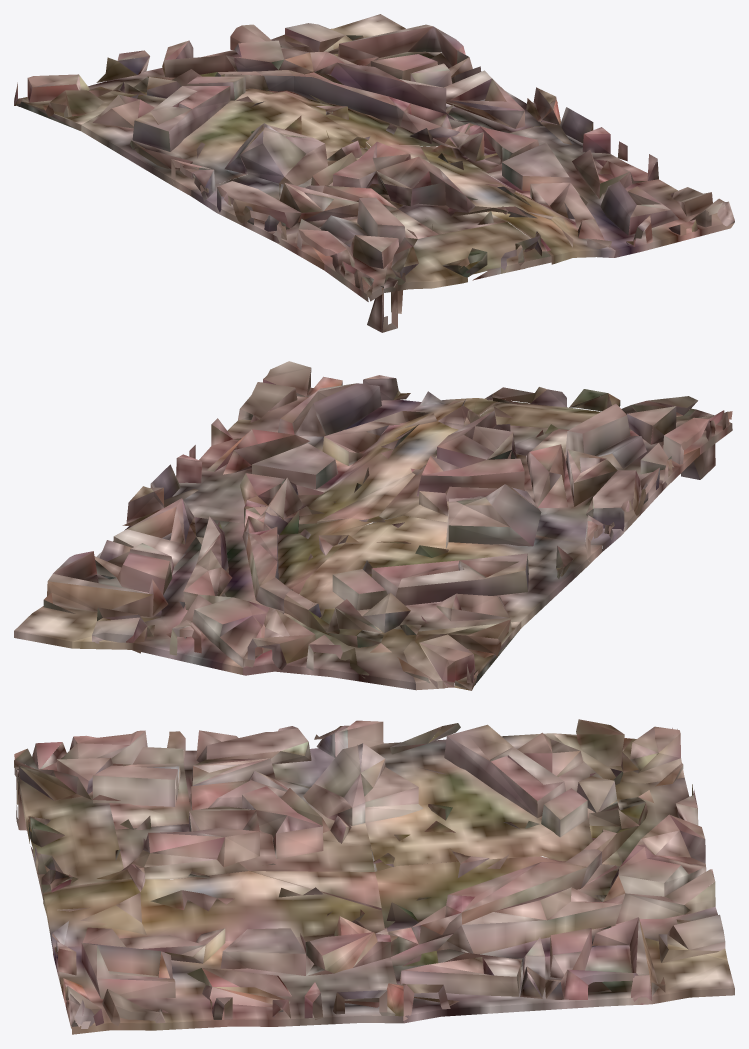
3 views of the same model, one above another, from view 1: azimuth 30°, elevation 25°; view 2: azimuth 150°, elevation 25°; view 3: azimuth 270°, elevation 25° (orthographic). The views are drawn at different scales.
Visible parts, largest first — view 1: Mesh_0; view 2: Mesh_0; view 3: Mesh_0.
Part boxes in pixels (x1,y1,x2,y2): Mesh_0: [14, 14, 734, 332]; Mesh_0: [14, 361, 732, 690]; Mesh_0: [14, 719, 734, 1034].
Size of the model in its own units: 532 by 111 by 659.
2 materials, 2 textured.
